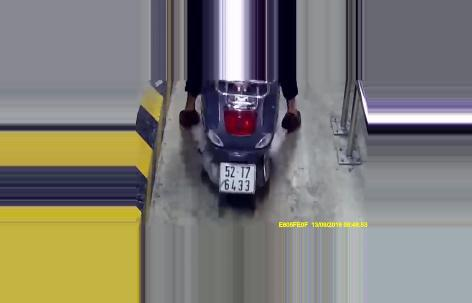License_Plate: (215, 159, 261, 197)
